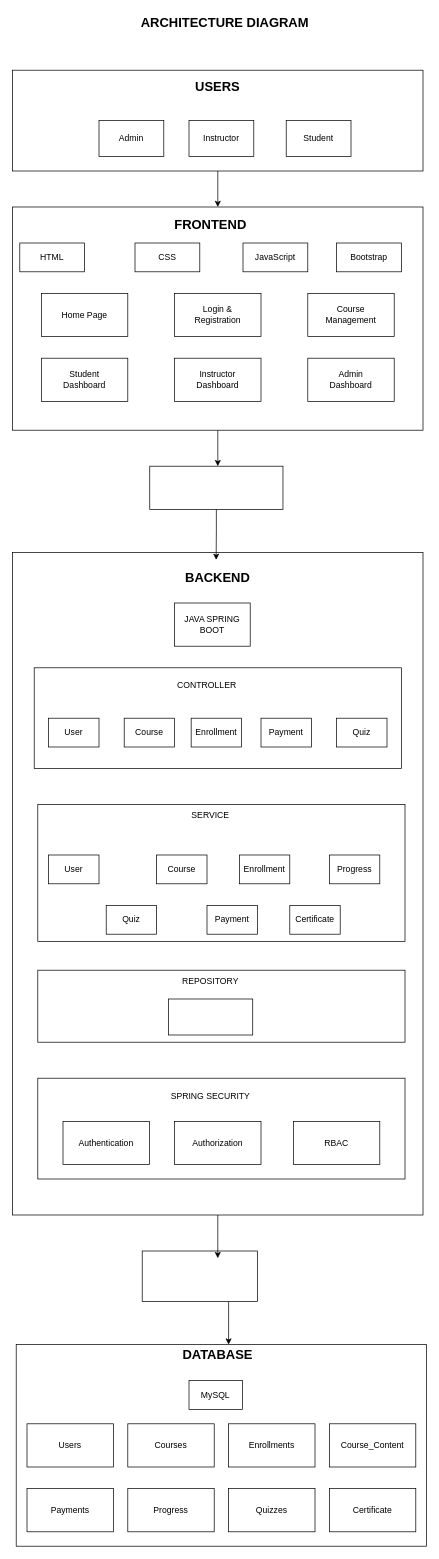
Image size: 439x1559. Some labels were removed from this diagram. Here are the shapes that lost their labels. From the top down, the box of each, then its label:
(149, 465, 283, 509): REST API / HTTP
(168, 998, 253, 1035): Spring Data JPA
(141, 1250, 257, 1301): JPA / JDBC
